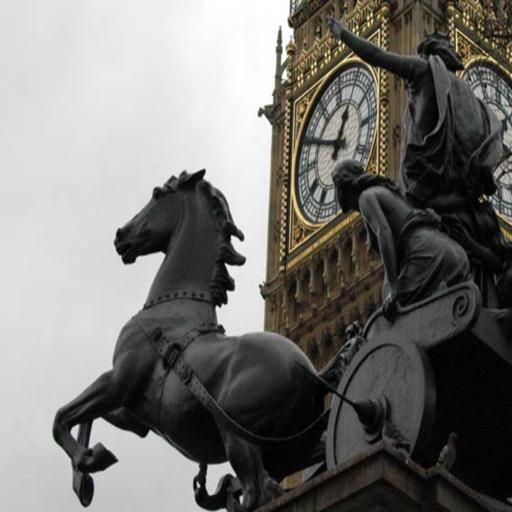Horse: (50, 164, 358, 508)
